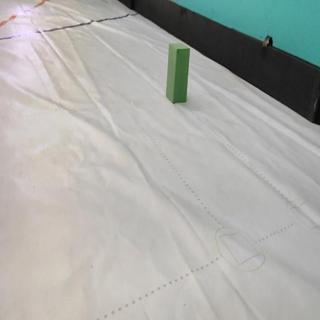greenbox: (165, 42, 190, 104)
